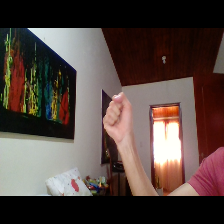9D: (98, 88, 135, 143)
